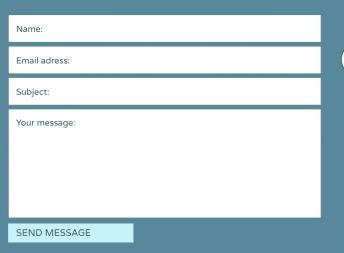button: (5, 222, 138, 244)
field: (6, 107, 323, 219), (7, 12, 324, 44), (7, 44, 323, 75), (7, 76, 323, 106)
